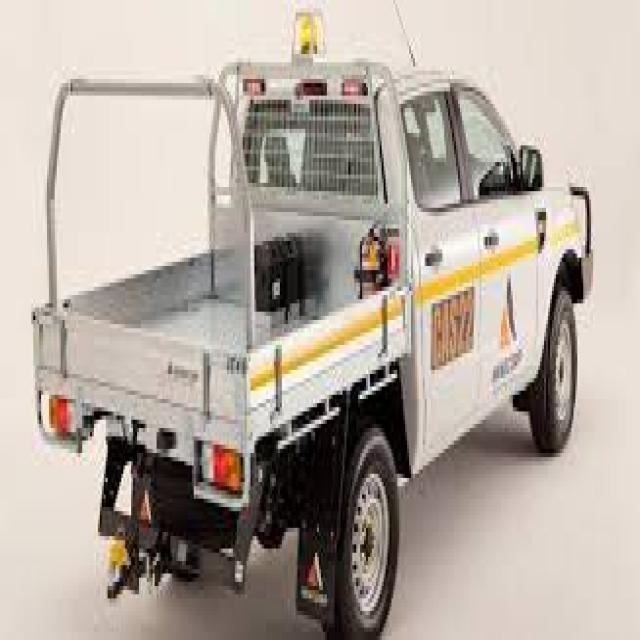light_vehicle: (29, 0, 601, 636)
